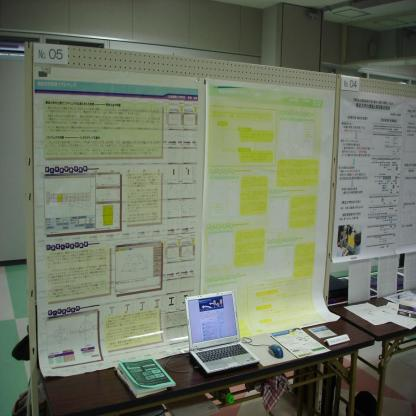board: (184, 290, 260, 376)
